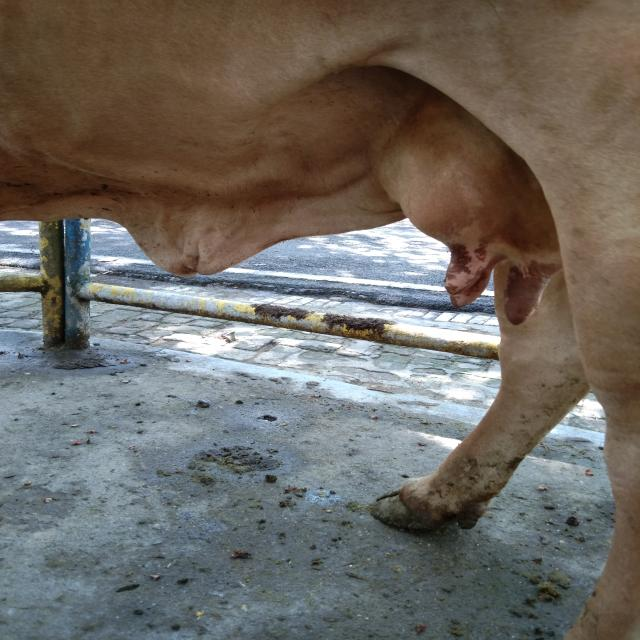Hoof: (368, 476, 487, 533)
